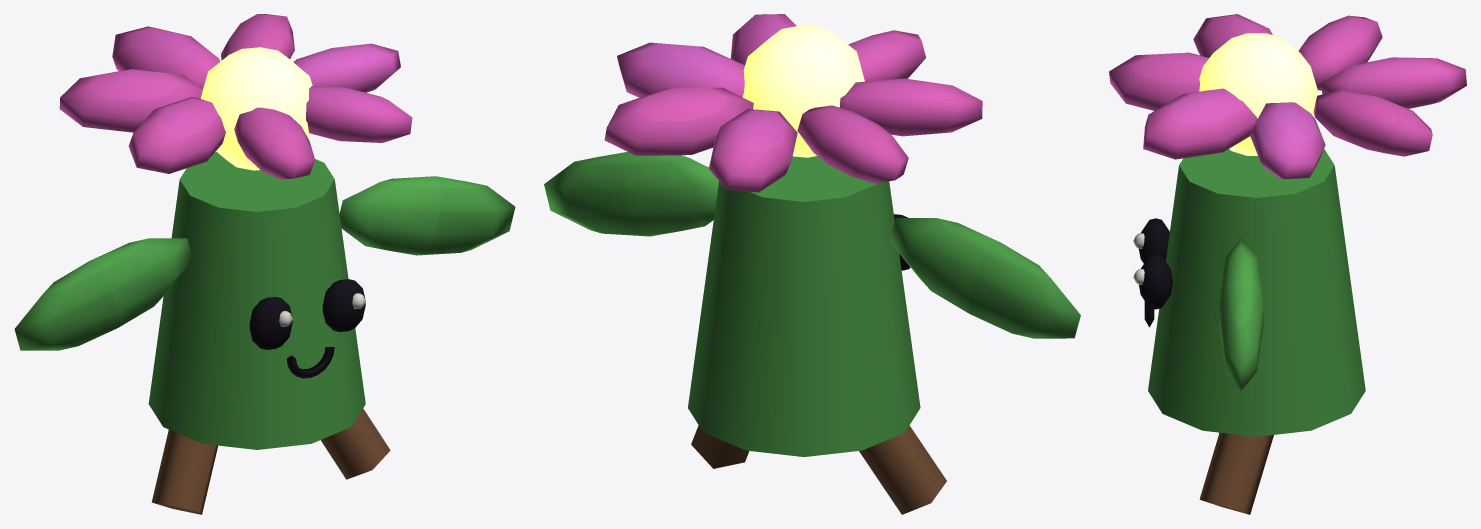
File: monster_bloomling.glb
3 views of the same model, side by side, from view 1: azimuth 30°, elevation 25°; view 2: azimuth 150°, elevation 25°; view 3: azimuth 270°, elevation 25° (orthographic). The views are drawn at different scales.
Parts seen in each view (by area): view 1: body_t0_palette, arml_t0_palette, armr_t0_palette, body_t0_glow_gold, legl_t0_palette, legr_t0_palette; view 2: body_t0_palette, arml_t0_palette, armr_t0_palette, body_t0_glow_gold, legl_t0_palette, legr_t0_palette; view 3: body_t0_palette, body_t0_glow_gold, armr_t0_palette, legr_t0_palette.
Part boxes in pixels (x1,y1,x2,y2): body_t0_palette: [59, 14, 412, 449]; arml_t0_palette: [14, 238, 192, 350]; armr_t0_palette: [339, 176, 515, 255]; body_t0_glow_gold: [200, 47, 312, 170]; legl_t0_palette: [151, 429, 217, 514]; legr_t0_palette: [321, 408, 390, 479]; body_t0_palette: [604, 14, 982, 456]; arml_t0_palette: [889, 218, 1080, 338]; armr_t0_palette: [544, 152, 718, 236]; body_t0_glow_gold: [742, 25, 864, 157]; legl_t0_palette: [859, 425, 946, 514]; legr_t0_palette: [691, 425, 749, 468]; body_t0_palette: [1109, 14, 1466, 436]; body_t0_glow_gold: [1199, 33, 1318, 155]; armr_t0_palette: [1219, 238, 1263, 390]; legr_t0_palette: [1199, 432, 1273, 514].
Size of the model in its own units: 0.373 by 0.3075 by 0.23.
